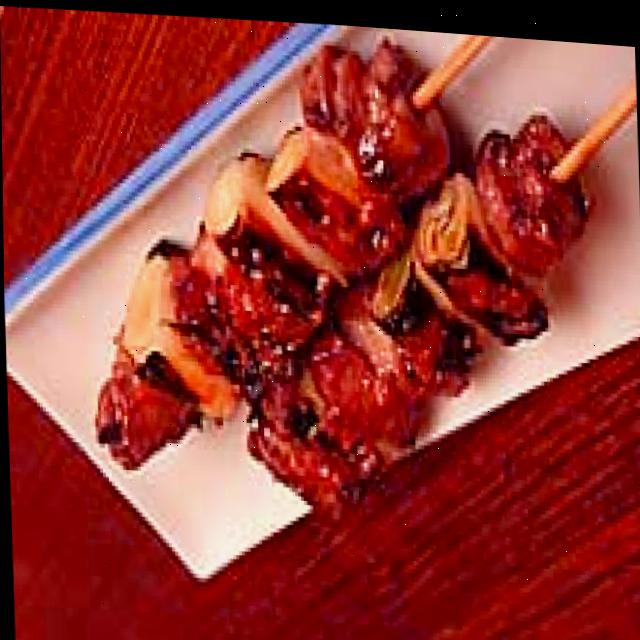烧串烤肉: (78, 5, 640, 569)
